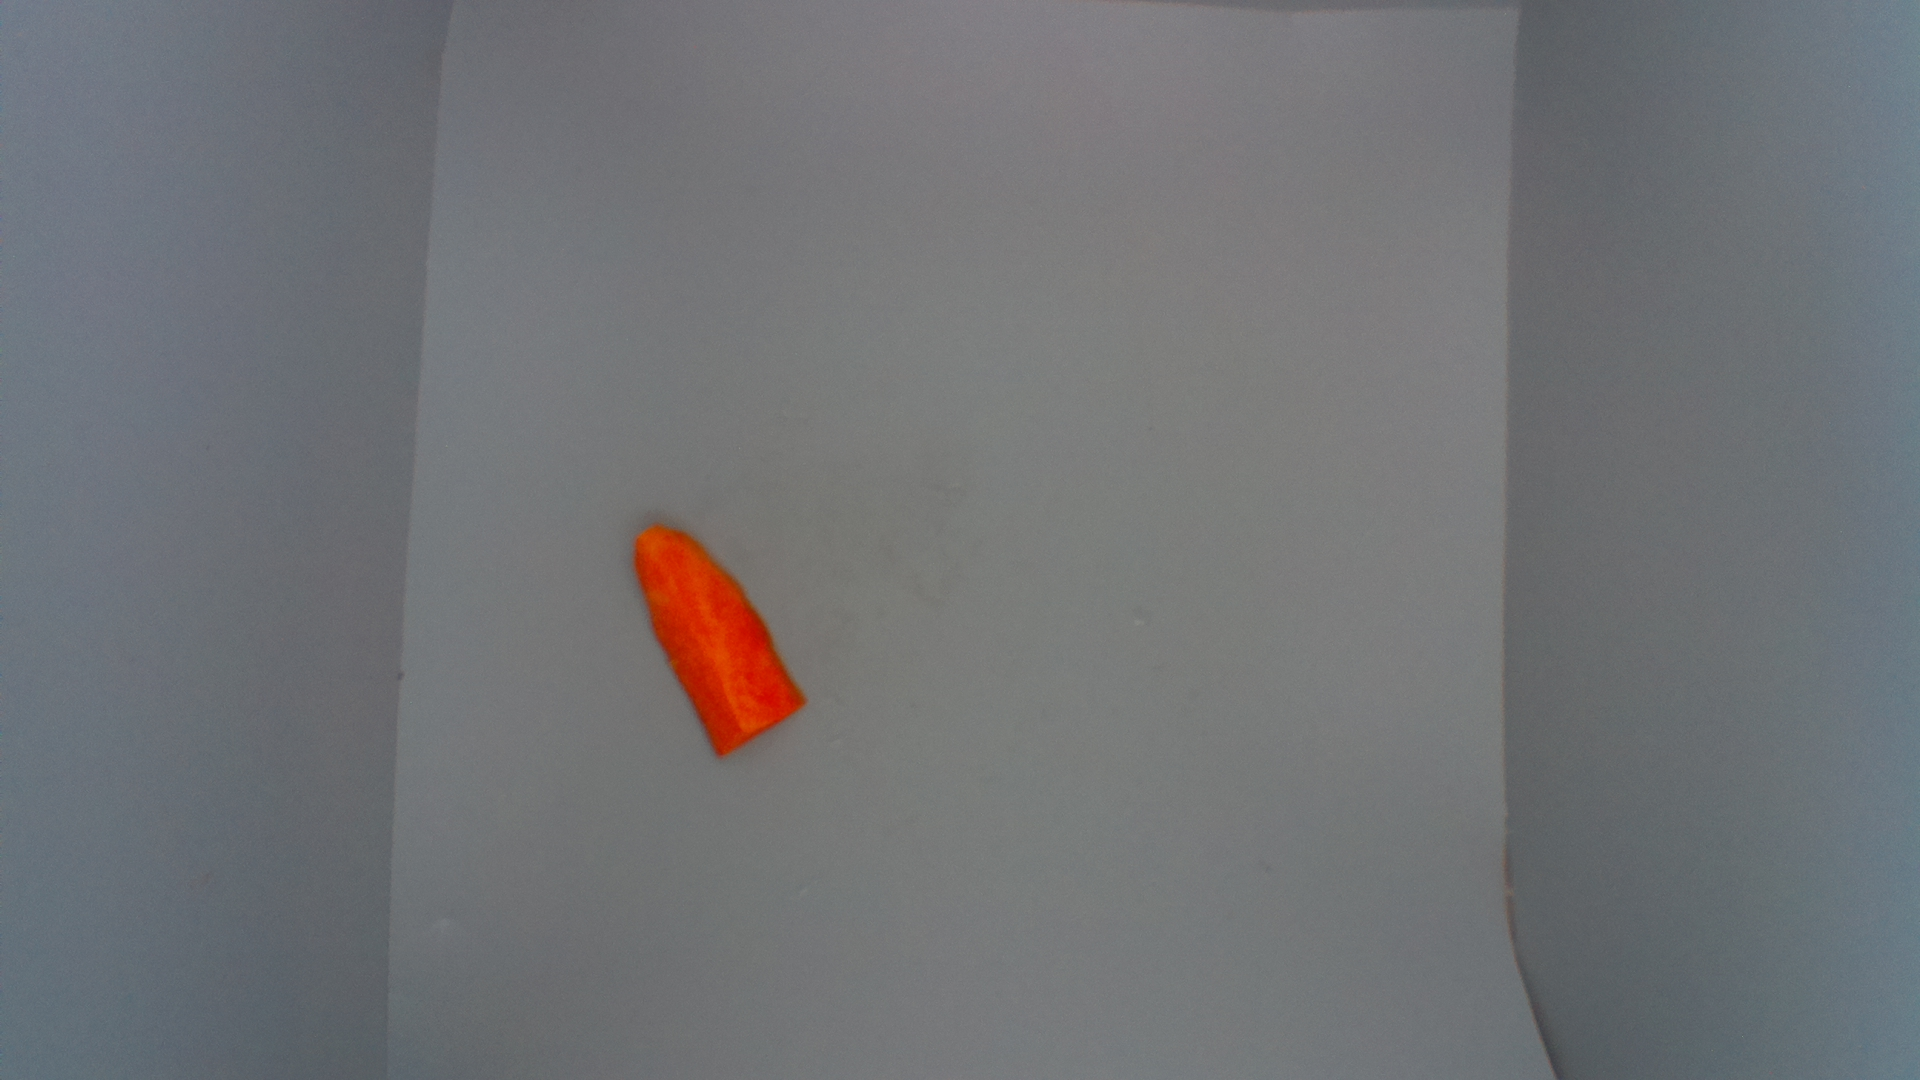carrot: (629, 524, 808, 767)
